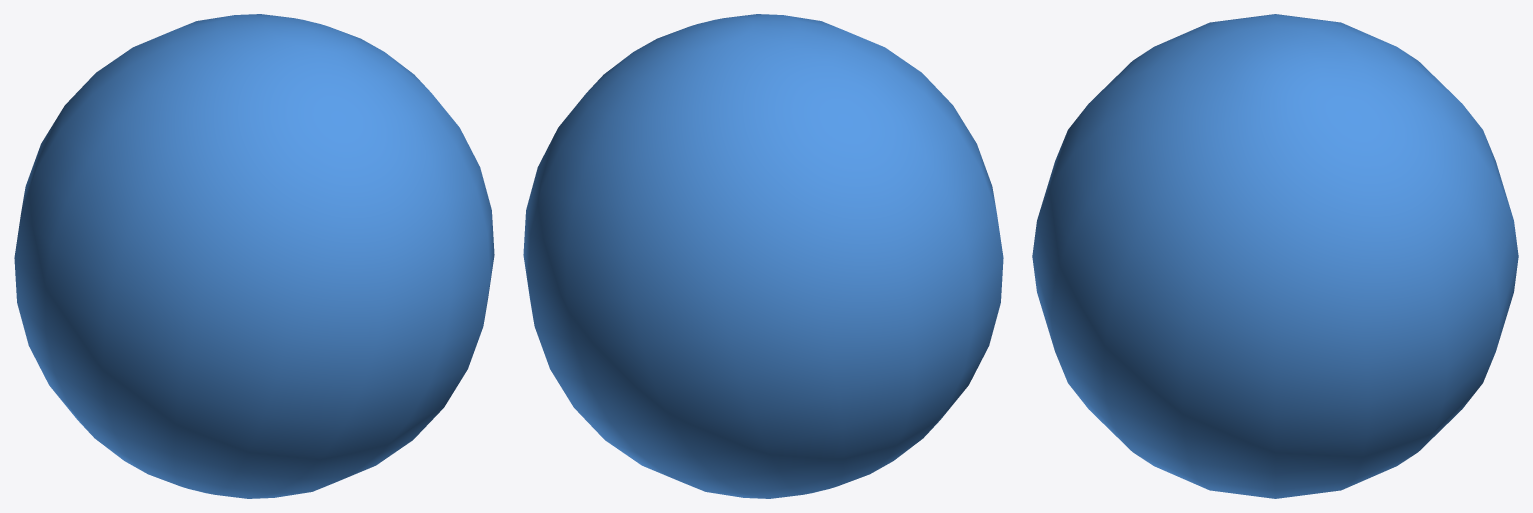
3 renders of one model, left to right at view 1: azimuth 30°, elevation 25°; view 2: azimuth 150°, elevation 25°; view 3: azimuth 270°, elevation 25°, orthographic.
Visible parts, largest first — view 1: orbinside7; view 2: orbinside7; view 3: orbinside7.
Part boxes in pixels (bbox=[...]): orbinside7: bbox=[14, 14, 494, 498]; orbinside7: bbox=[523, 14, 1003, 498]; orbinside7: bbox=[1032, 14, 1518, 498].
Size of the model in its own units: 0.3988 by 0.3988 by 0.4.
